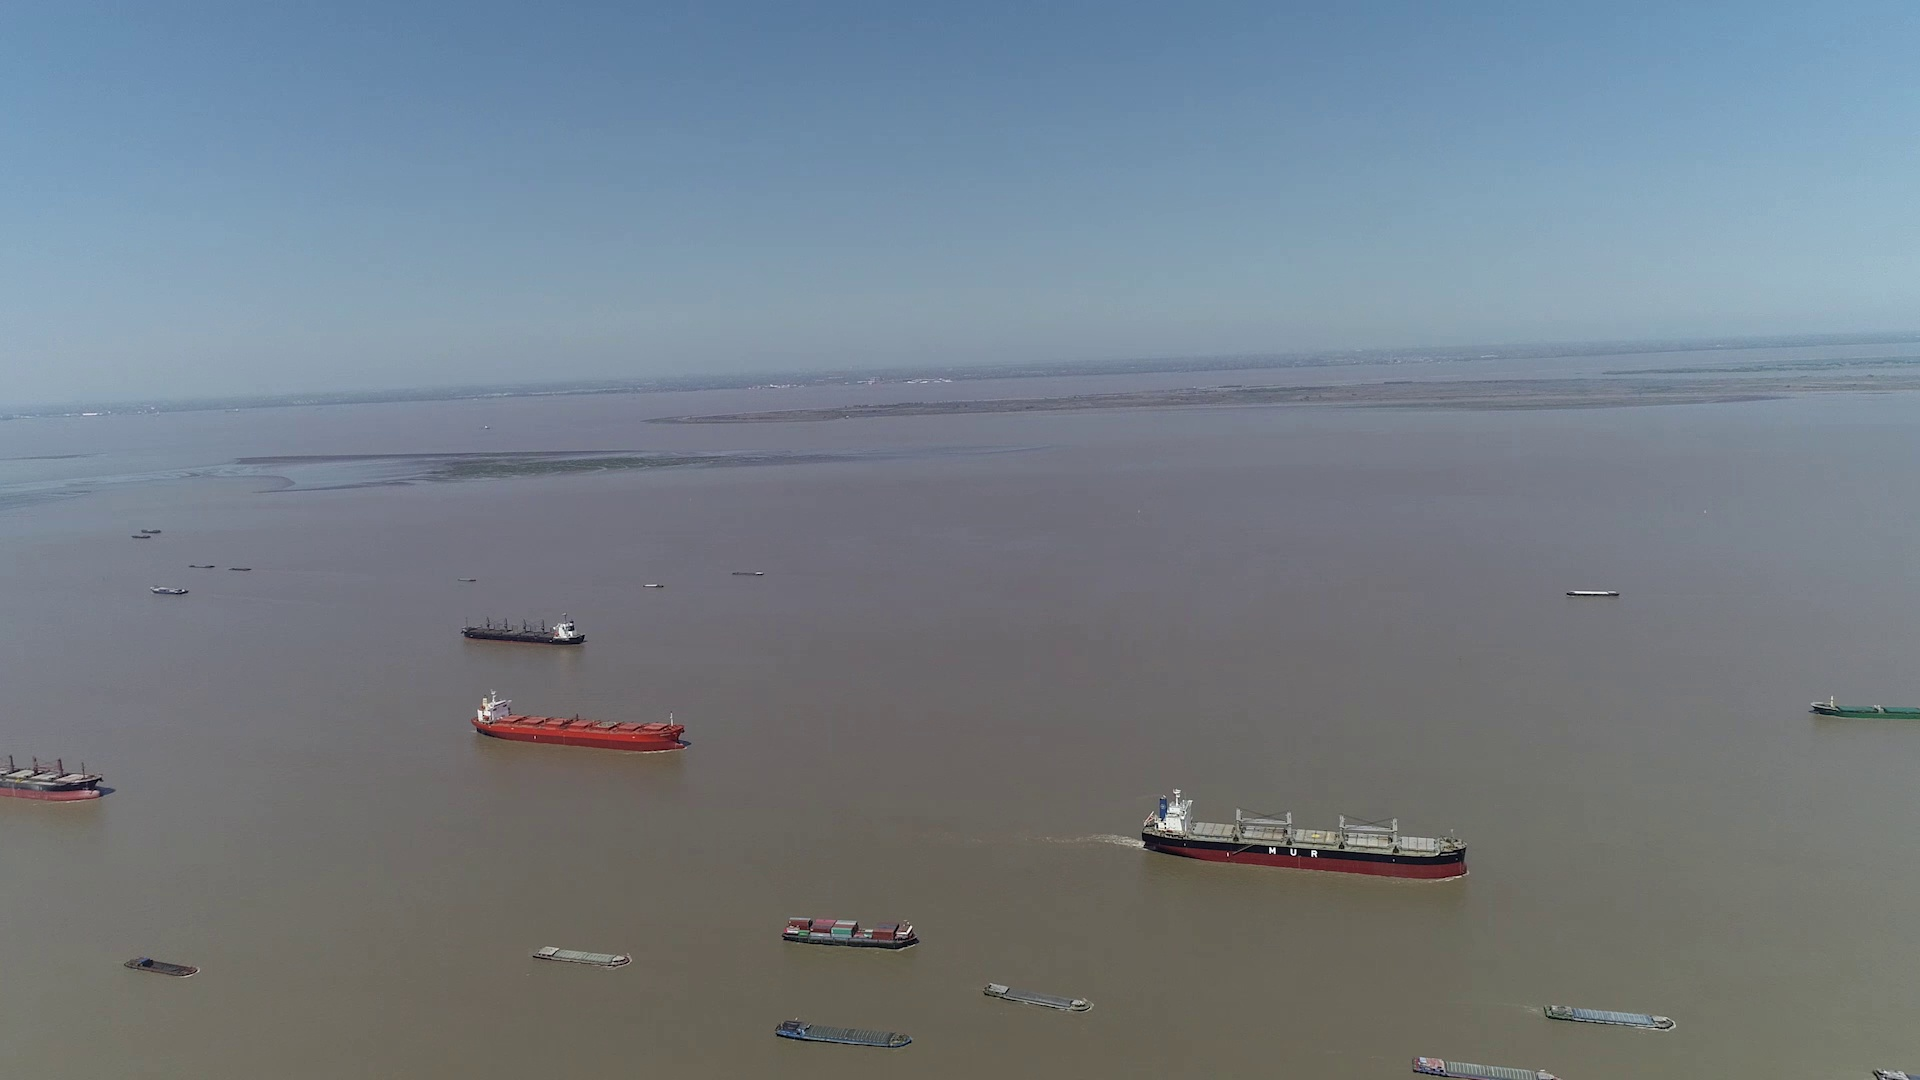ship: (1145, 787, 1466, 880), (475, 691, 683, 753), (1, 740, 109, 804), (783, 916, 920, 951), (771, 1018, 914, 1048), (1542, 1004, 1676, 1033), (463, 613, 585, 645), (1414, 1054, 1559, 1080), (982, 981, 1091, 1011), (1811, 696, 1920, 720), (531, 944, 632, 967), (123, 955, 196, 977), (1871, 1065, 1917, 1079), (1567, 589, 1619, 597), (152, 584, 190, 593)
